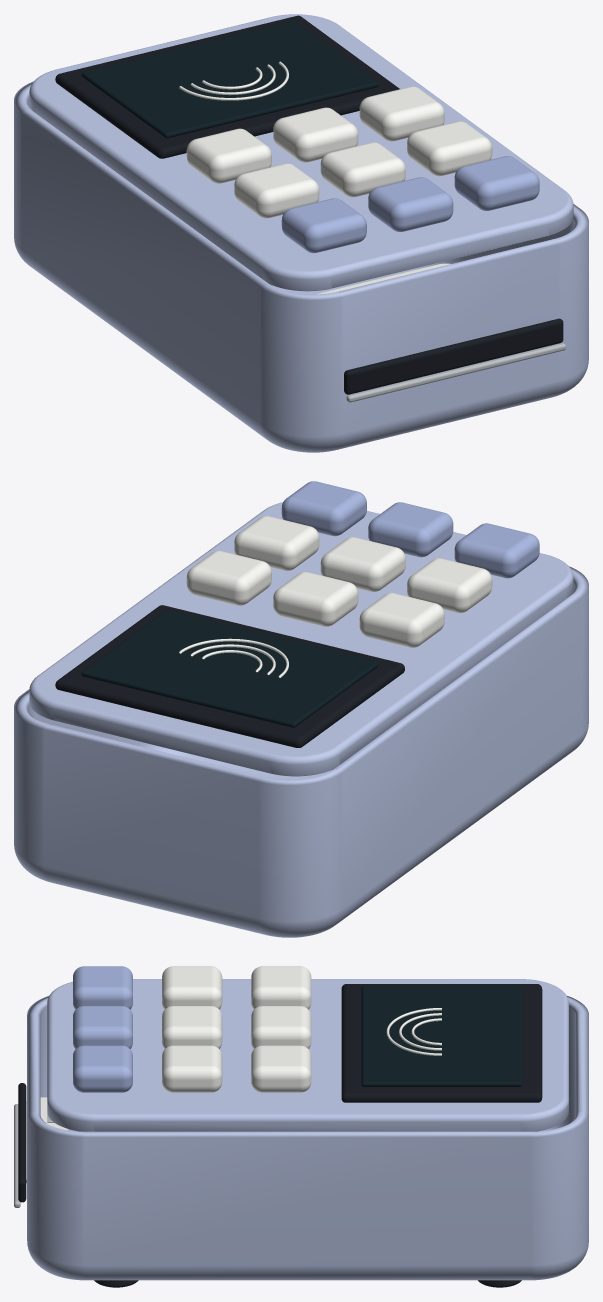
The model's file is payment-terminal.glb.
3 renders of one model, top to bottom at view 1: azimuth 30°, elevation 25°; view 2: azimuth 150°, elevation 25°; view 3: azimuth 270°, elevation 25°, orthographic. The views are drawn at different scales.
Visible parts, largest first — view 1: hollow-rounded-housing, fitted-terminal-control-deck, display-and-face-009, display-and-face-008, card-reader-019, payment-keys-9-018, payment-keys-7-016, payment-keys-8-017, payment-keys-3-012, payment-keys-2-011, payment-keys-4-013, payment-keys-6-015 (+3 smaller); view 2: hollow-rounded-housing, fitted-terminal-control-deck, display-and-face-009, display-and-face-008, payment-keys-1-010, payment-keys-3-012, payment-keys-2-011, payment-keys-7-016, payment-keys-8-017, payment-keys-9-018, payment-keys-6-015, payment-keys-5-014 (+1 smaller); view 3: hollow-rounded-housing, fitted-terminal-control-deck, display-and-face-009, display-and-face-008, payment-keys-3-012, payment-keys-6-015, payment-keys-9-018, payment-keys-1-010, payment-keys-2-011, payment-keys-4-013, payment-keys-5-014, payment-keys-7-016 (+3 smaller).
Part boxes in pixels (x1,y1,x2,y2): hollow-rounded-housing: (14,81,588,452); fitted-terminal-control-deck: (29,14,573,291); display-and-face-009: (81,21,378,138); display-and-face-008: (55,15,399,158); card-reader-019: (344,318,563,394); payment-keys-9-018: (454,156,539,210); payment-keys-7-016: (281,198,366,253); payment-keys-8-017: (368,177,453,231); payment-keys-3-012: (359,86,444,141); payment-keys-2-011: (273,107,358,162); payment-keys-4-013: (234,163,319,218); payment-keys-6-015: (407,121,492,176); hollow-rounded-housing: (14,566,588,937); fitted-terminal-control-deck: (29,502,573,776); display-and-face-009: (81,610,378,727); display-and-face-008: (55,605,404,747); payment-keys-1-010: (359,593,444,647); payment-keys-3-012: (186,550,271,605); payment-keys-2-011: (273,572,358,626); payment-keys-7-016: (454,523,539,578); payment-keys-8-017: (368,502,453,557); payment-keys-9-018: (281,481,366,536); payment-keys-6-015: (234,516,319,570); payment-keys-5-014: (320,537,405,591); hollow-rounded-housing: (27,996,588,1280); fitted-terminal-control-deck: (47,979,568,1131); display-and-face-009: (361,986,521,1086); display-and-face-008: (341,984,542,1102); payment-keys-3-012: (251,1045,311,1092); payment-keys-6-015: (162,1045,222,1092); payment-keys-9-018: (73,1045,132,1092); payment-keys-1-010: (251,966,311,1009); payment-keys-2-011: (251,1006,311,1048); payment-keys-4-013: (162,966,222,1009); payment-keys-5-014: (162,1006,222,1048); payment-keys-7-016: (73,966,132,1009).
Bounding box in the file's own units: 1.21 × 0.8259 × 2.
